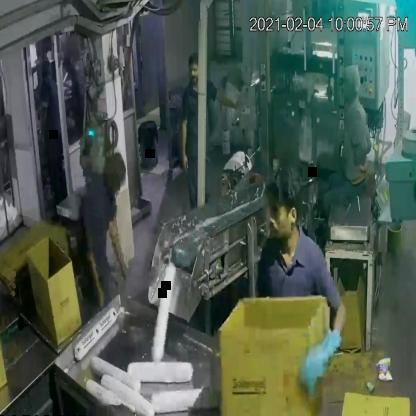glove: (290, 308, 355, 415)
no_glove: (101, 202, 133, 286), (80, 232, 108, 306), (176, 109, 196, 177), (208, 82, 249, 112)
